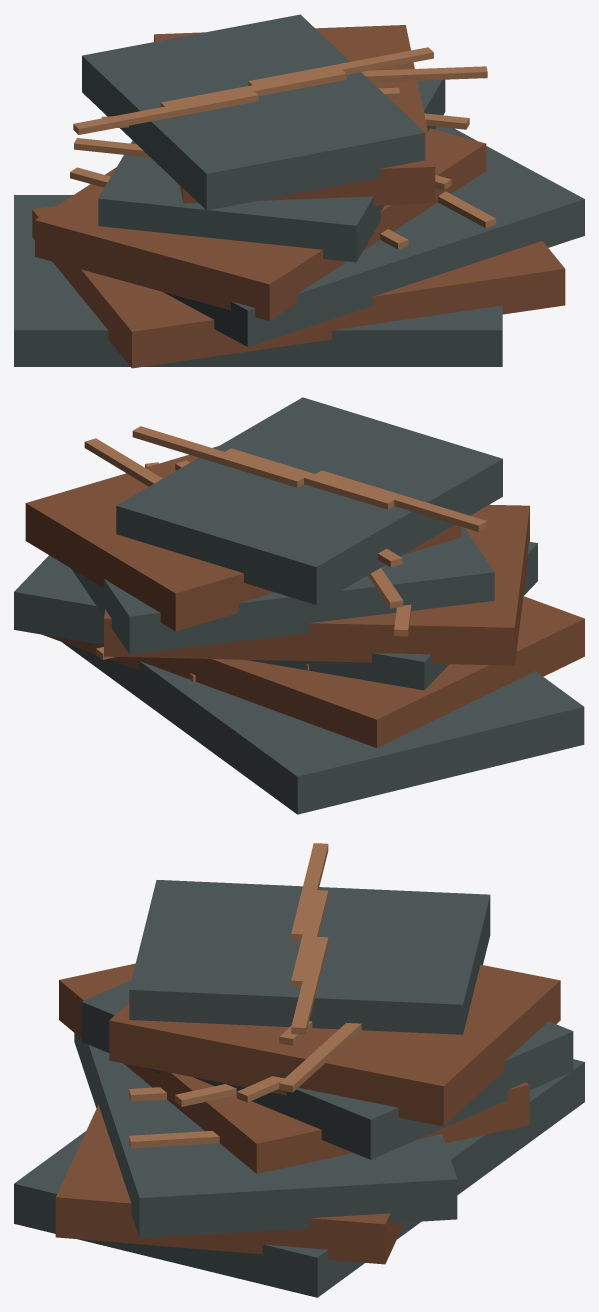
File: FSA_ENV_Outdoor_Scrap_01_SheetMetal.glb
3 views of the same model, one above another, from view 1: azimuth 30°, elevation 25°; view 2: azimuth 150°, elevation 25°; view 3: azimuth 270°, elevation 25° (orthographic). The views are drawn at different scales.
Visible parts, largest first — view 1: Plate_6, Plate_3, Plate_0, Plate_2, Plate_1, Plate_4, Plate_5, Ridge_6_0, Ridge_6_1, Ridge_6_2, Ridge_5_2, Ridge_4_0 (+3 smaller); view 2: Plate_6, Plate_0, Plate_1, Plate_3, Plate_5, Plate_4, Plate_2, Ridge_6_2, Ridge_6_0, Ridge_6_1, Ridge_5_2, Ridge_4_0; view 3: Plate_6, Plate_2, Plate_5, Plate_0, Plate_1, Plate_4, Plate_3, Ridge_5_2, Ridge_6_2, Ridge_6_1, Ridge_6_0, Ridge_2_2 (+2 smaller).
Boxes of the visible parts, x1,y1,x2,y2 form: Plate_6: (82, 14, 425, 210); Plate_3: (35, 128, 486, 320); Plate_0: (14, 195, 502, 366); Plate_2: (163, 126, 584, 346); Plate_1: (32, 205, 565, 368); Plate_4: (98, 79, 445, 262); Plate_5: (154, 25, 435, 205); Ridge_6_0: (73, 91, 258, 134); Ridge_6_1: (160, 68, 346, 107); Ridge_6_2: (248, 47, 433, 85); Ridge_5_2: (361, 66, 487, 82); Ridge_4_0: (74, 138, 150, 157); Plate_6: (116, 397, 502, 604); Plate_0: (62, 642, 584, 814); Plate_1: (42, 596, 584, 747); Plate_3: (104, 504, 529, 665); Plate_5: (25, 446, 461, 631); Plate_4: (71, 527, 494, 654); Plate_2: (14, 541, 537, 690); Ridge_6_2: (132, 426, 305, 487); Ridge_6_0: (314, 470, 486, 531); Ridge_6_1: (225, 448, 395, 509); Ridge_5_2: (84, 438, 162, 486); Ridge_4_0: (367, 568, 403, 608); Plate_6: (129, 880, 490, 1034); Plate_2: (74, 1033, 457, 1238); Plate_5: (109, 964, 560, 1126); Plate_0: (14, 1059, 584, 1297); Plate_1: (55, 1105, 404, 1264); Plate_4: (81, 980, 573, 1159); Plate_3: (59, 963, 529, 1173); Ridge_5_2: (279, 1023, 361, 1092); Ridge_6_2: (291, 936, 328, 1034); Ridge_6_1: (291, 890, 328, 987); Ridge_6_0: (291, 843, 328, 940); Ridge_2_2: (129, 1131, 219, 1148).
Bounding box in the file's own units: 3.47 × 1.36 × 3.1.
